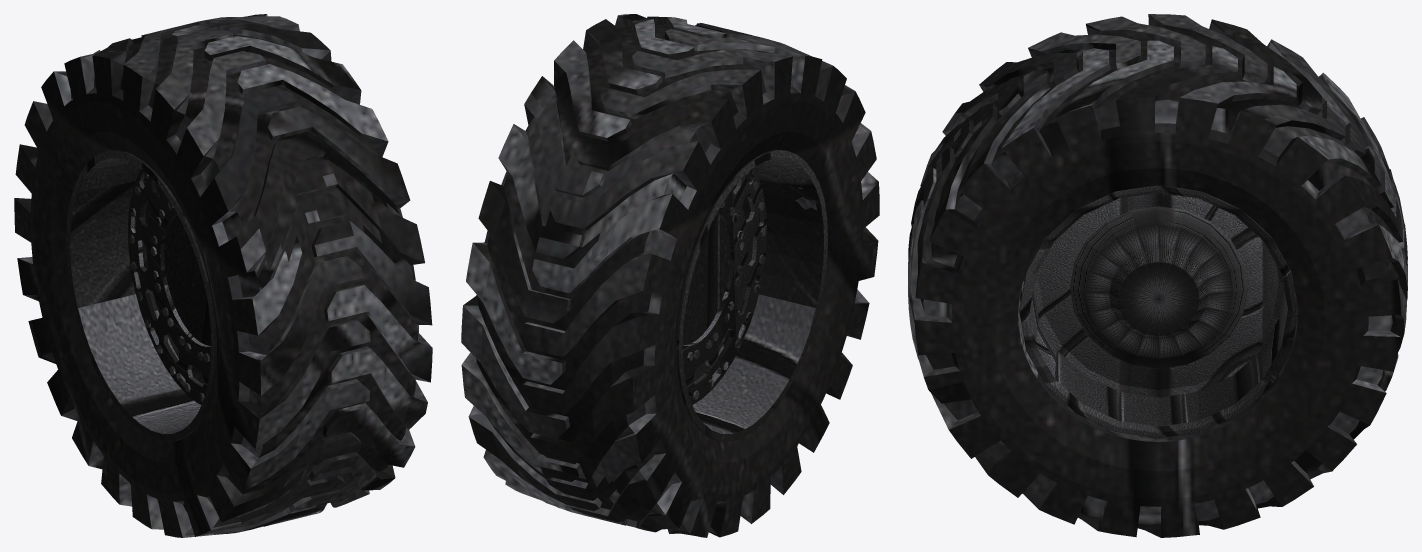
Rendered from Llanta1.obj.
The picture shows the model from 3 angles, left to right: view 1: azimuth 30°, elevation 25°; view 2: azimuth 150°, elevation 25°; view 3: azimuth 270°, elevation 25°; orthographic projection.
Visible parts, largest first — view 1: Llanta; view 2: Llanta; view 3: Llanta.
Part boxes in pixels (bbox=[...]): Llanta: bbox=[14, 14, 432, 537]; Llanta: bbox=[461, 14, 879, 537]; Llanta: bbox=[908, 14, 1407, 537].
Bounding box in the file's own units: 2.41 × 5.83 × 5.83.
1 material, 1 textured.
